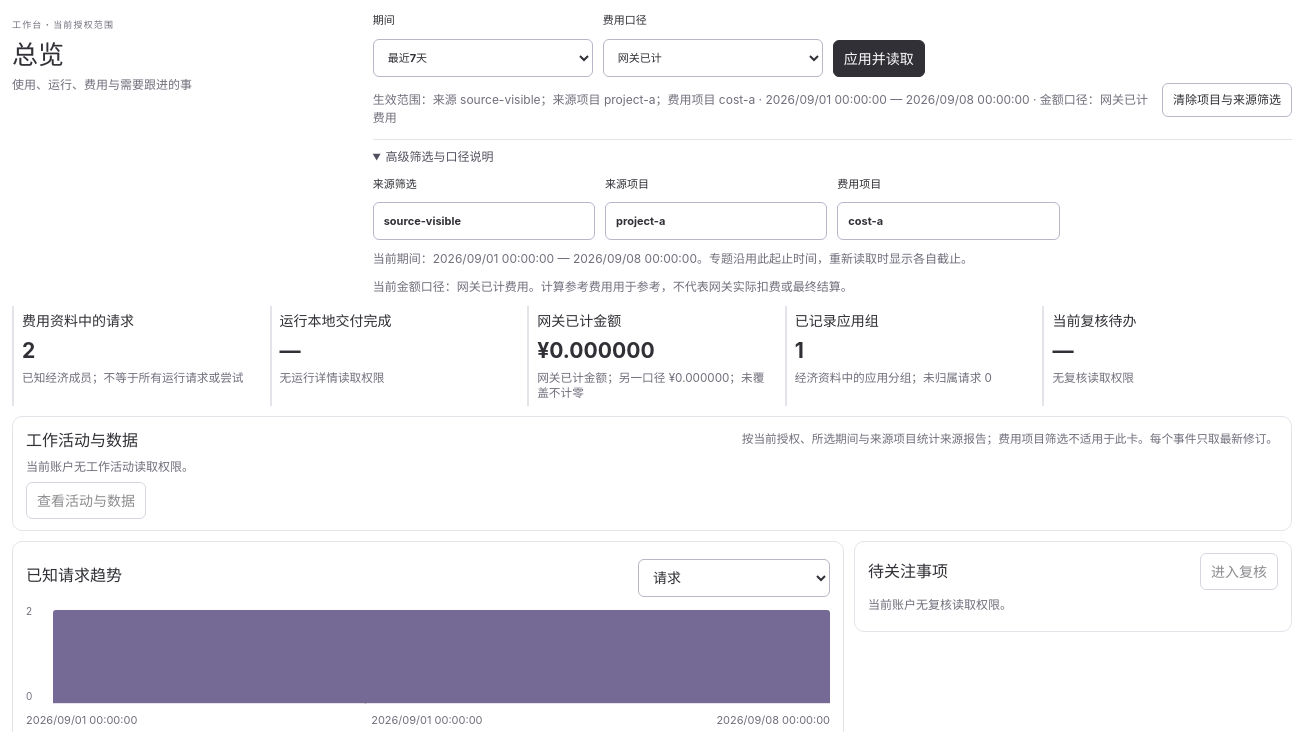
combined overview within existing scope › requests series keeps economic membership, units and incomplete coverage distinct
Check: the picture named "已知请求趋势" is shown, box x1=53 y1=604 x2=830 y2=704
Check: the element named "：2 条，完整性未知" is shown, box x1=53 y1=610 x2=830 y2=703
Select "费用" in the dropdown named "趋势指标" at (734,578), box x1=638 y1=559 x2=830 y2=597
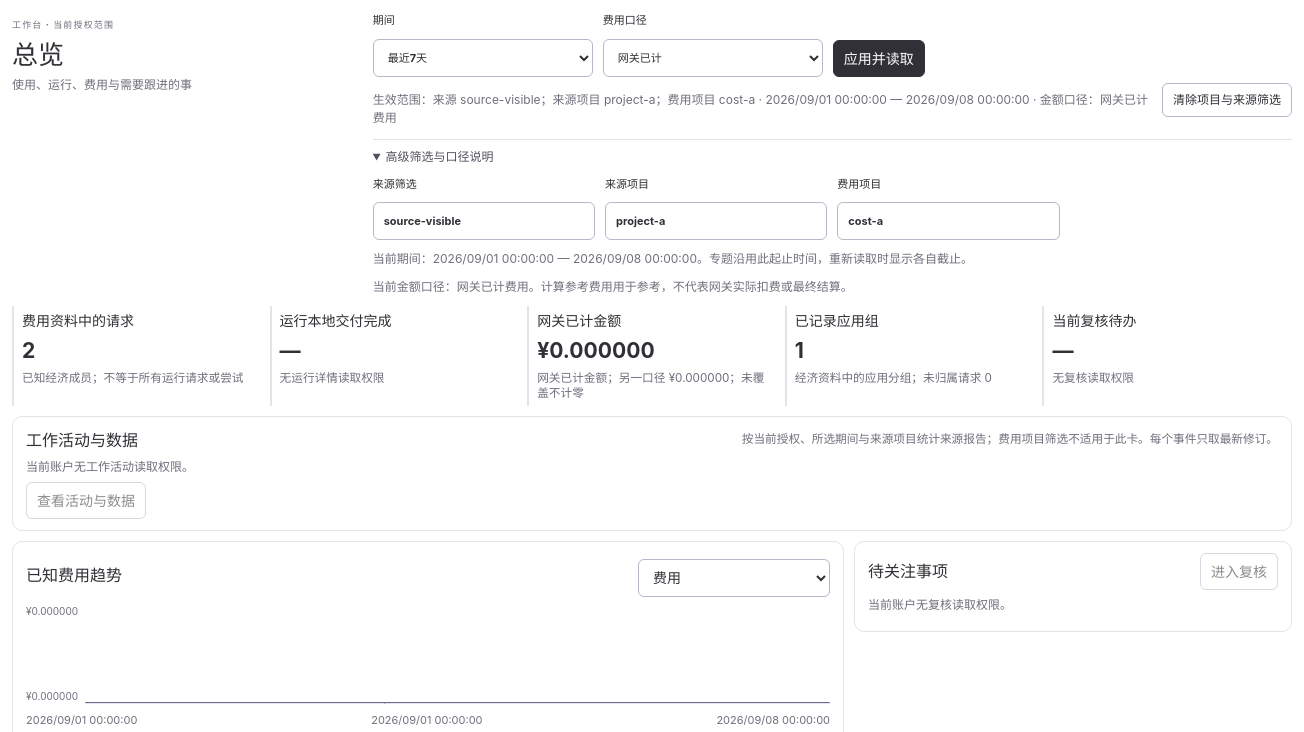
Check: the element named "：¥0.000000，完整性未知" is shown, box x1=383 y1=696 x2=386 y2=710
